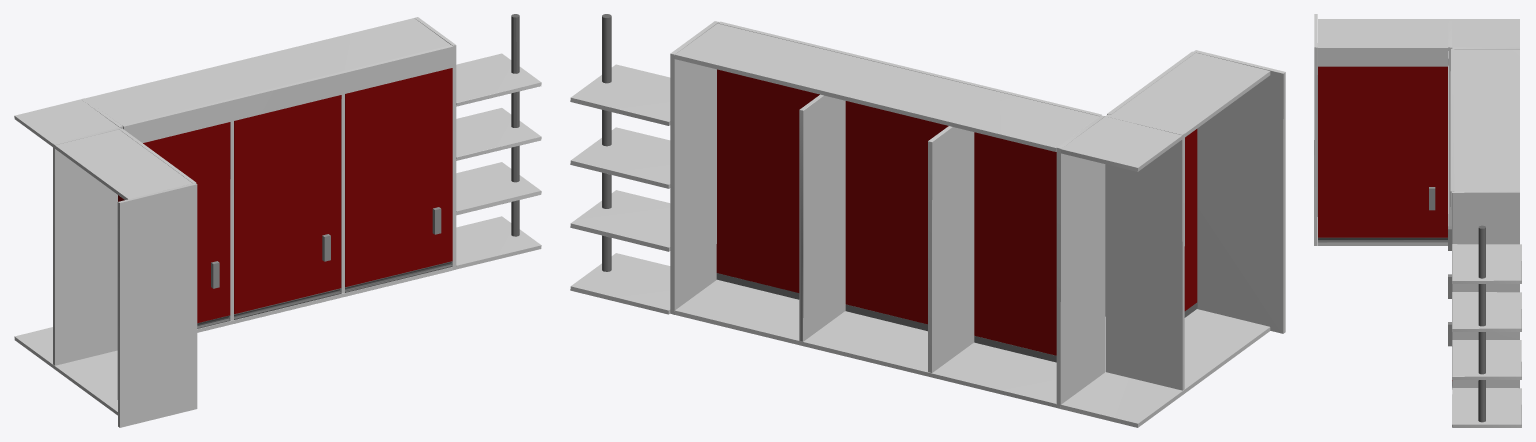
Rendered from NEW Kitchen Furniture 1.fbx.
The picture shows the model from 3 angles, left to right: view 1: azimuth 30°, elevation 25°; view 2: azimuth 150°, elevation 25°; view 3: azimuth 270°, elevation 25°; orthographic projection. The views are drawn at different scales.
Parts seen in each view (by area): view 1: Kitchen furniture 1, Kitchen furniture 1 -DOORS.002, Kitchen furniture 1 -DOORS.003, Kitchen furniture 1 -DOORS.004; view 2: Kitchen furniture 1, Kitchen furniture 1 -DOORS.002, Kitchen furniture 1 -DOORS.003, Kitchen furniture 1 -DOORS.004, Kitchen furniture 1 -DOORS.001; view 3: Kitchen furniture 1, Kitchen furniture 1 -DOORS.001.
Part boxes in pixels (bbox=[...]): Kitchen furniture 1: bbox=[14, 14, 541, 427]; Kitchen furniture 1 -DOORS.002: bbox=[345, 68, 452, 287]; Kitchen furniture 1 -DOORS.003: bbox=[234, 95, 341, 313]; Kitchen furniture 1 -DOORS.004: bbox=[143, 122, 230, 323]; Kitchen furniture 1: bbox=[570, 14, 1285, 427]; Kitchen furniture 1 -DOORS.002: bbox=[716, 69, 819, 292]; Kitchen furniture 1 -DOORS.003: bbox=[845, 101, 948, 324]; Kitchen furniture 1 -DOORS.004: bbox=[974, 132, 1056, 355]; Kitchen furniture 1 -DOORS.001: bbox=[1184, 129, 1197, 310]; Kitchen furniture 1: bbox=[1314, 14, 1521, 427]; Kitchen furniture 1 -DOORS.001: bbox=[1318, 66, 1447, 237].
Size of the model in its own units: 270 by 116 by 110.
